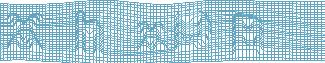B: (231, 12, 266, 57)
D: (172, 12, 211, 53)
X: (5, 12, 45, 55)
h: (73, 9, 105, 57)
x: (134, 20, 168, 52)
